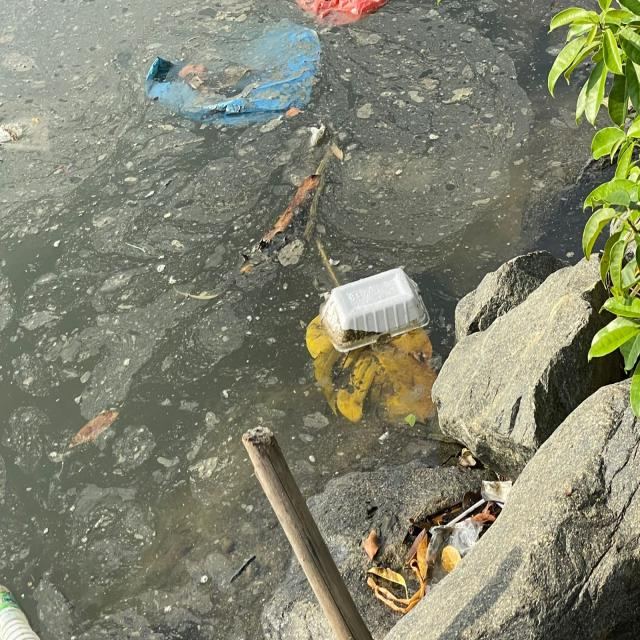Bungkus Makanan: (318, 262, 432, 357)
Kantong Plastik: (143, 25, 331, 129), (296, 3, 397, 33)
